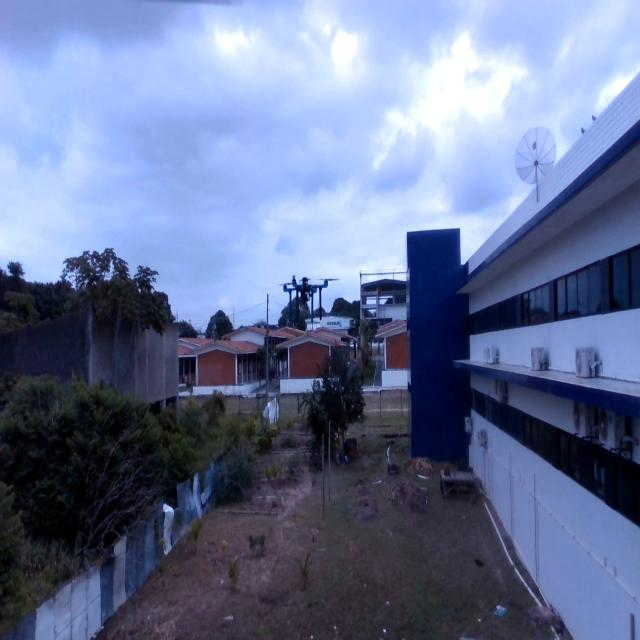-uav-: (272, 259, 340, 335)
